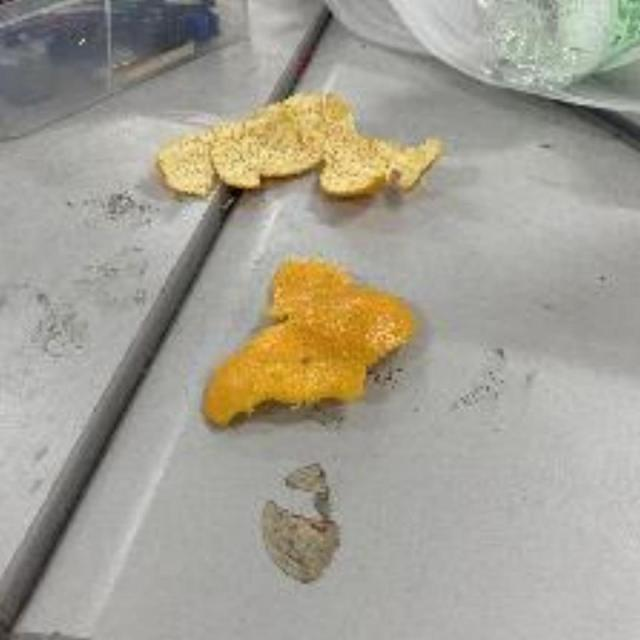orange-peel: (201, 253, 414, 430), (151, 92, 457, 201)
